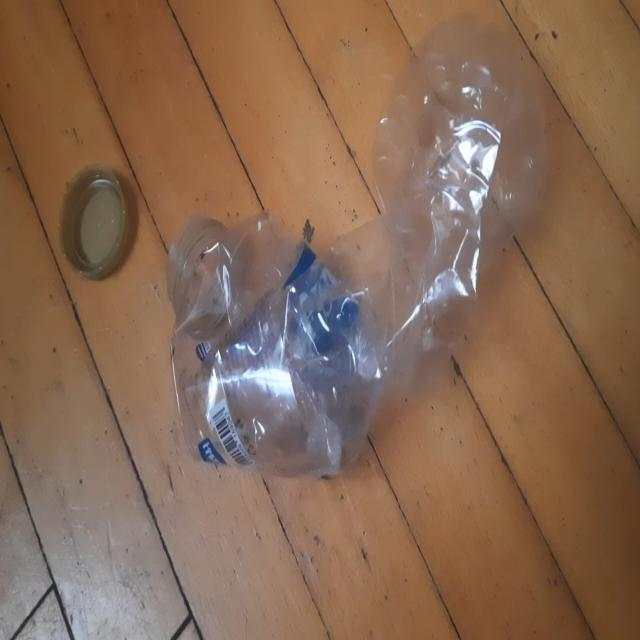Plastic: (176, 14, 546, 479)
